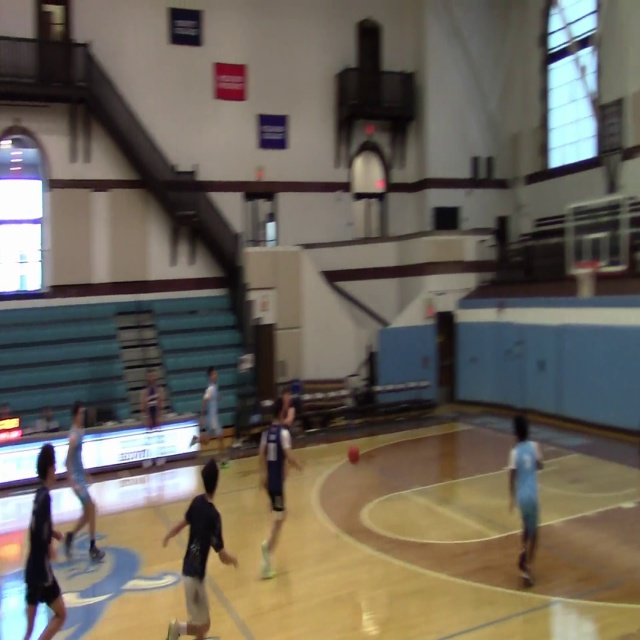Basketball: (347, 445, 360, 462)
